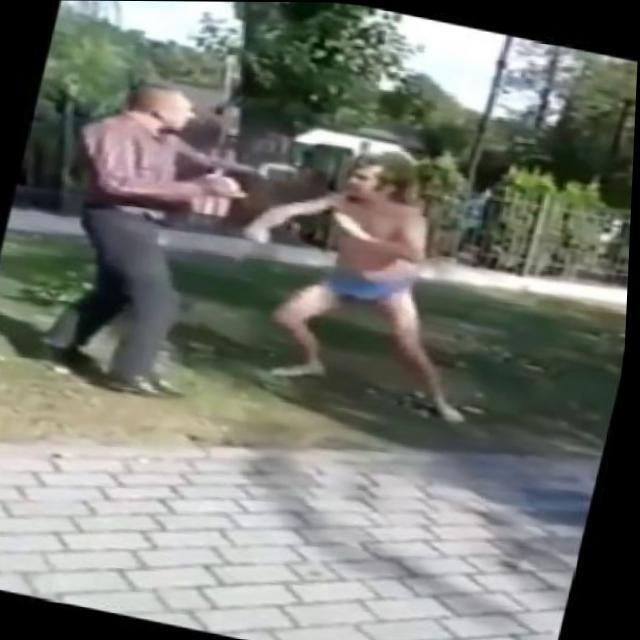fight: (21, 63, 508, 424)
